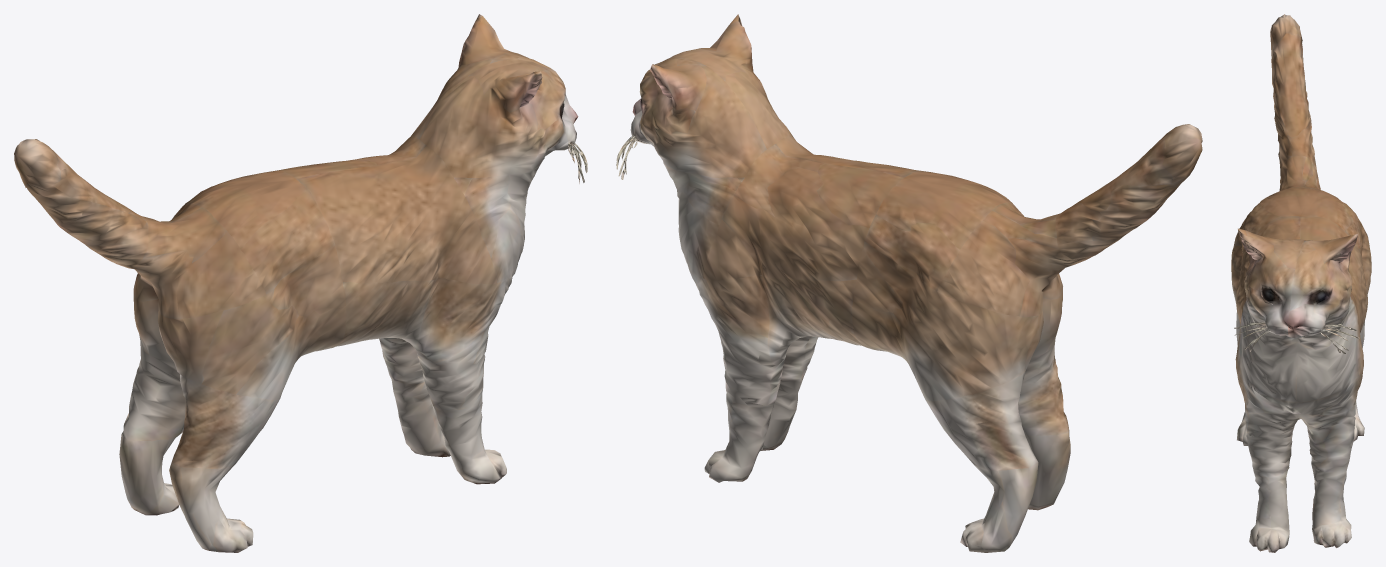
The model's file is GANYHOUSE-lo.glb.
3 renders of one model, left to right at view 1: azimuth 30°, elevation 25°; view 2: azimuth 150°, elevation 25°; view 3: azimuth 270°, elevation 25°, orthographic. The views are drawn at different scales.
Visible parts, largest first — view 1: tripo_node_db212359-d5da-4b30-ae6d-c8028d3ce3a6; view 2: tripo_node_db212359-d5da-4b30-ae6d-c8028d3ce3a6; view 3: tripo_node_db212359-d5da-4b30-ae6d-c8028d3ce3a6.
Boxes of the visible parts, left/top/right/bottom form: tripo_node_db212359-d5da-4b30-ae6d-c8028d3ce3a6: left=14, top=14, right=587, bottom=552; tripo_node_db212359-d5da-4b30-ae6d-c8028d3ce3a6: left=616, top=14, right=1202, bottom=552; tripo_node_db212359-d5da-4b30-ae6d-c8028d3ce3a6: left=1231, top=14, right=1371, bottom=552.
Bounding box in the file's own units: 1.34 × 0.9972 × 0.3567.
Materials: 1 (1 with a texture image).
